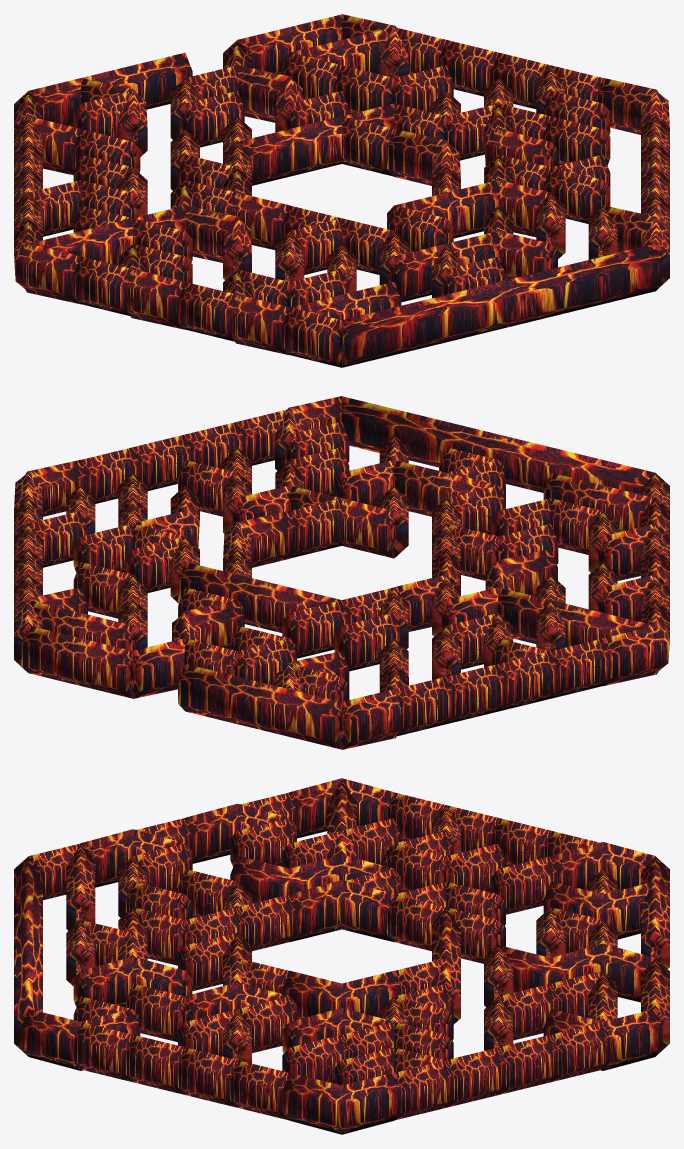
File: maze3.fbx
3 views of the same model, one above another, from view 1: azimuth 30°, elevation 25°; view 2: azimuth 150°, elevation 25°; view 3: azimuth 270°, elevation 25° (orthographic).
Parts seen in each view (by area): view 1: Curve; view 2: Curve; view 3: Curve.
Boxes of the visible parts, x1,y1,x2,y2 form: Curve: (14,14,669,367); Curve: (14,396,669,749); Curve: (14,778,669,1134).
Bounding box in the file's own units: 1941 × 141 × 1688.
